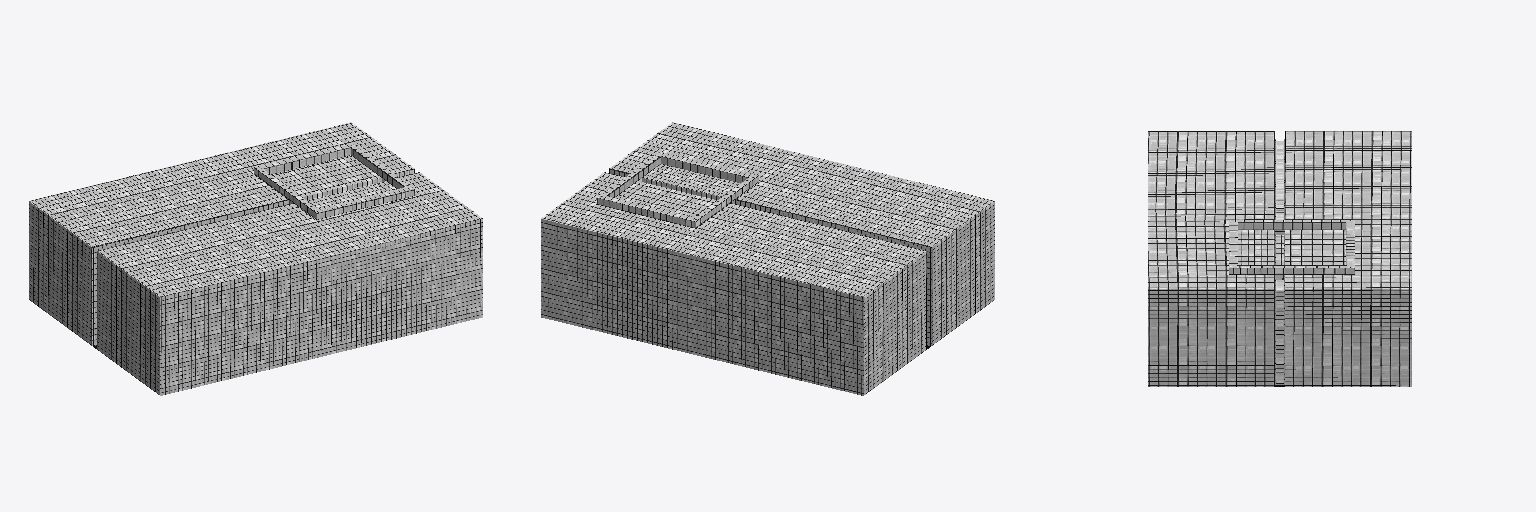
3 renders of one model, left to right at view 1: azimuth 30°, elevation 25°; view 2: azimuth 150°, elevation 25°; view 3: azimuth 270°, elevation 25°, orthographic.
Parts seen in each view (by area): view 1: fiance_box_paper_top_Cube.018; view 2: fiance_box_paper_top_Cube.018; view 3: fiance_box_paper_top_Cube.018.
Boxes of the visible parts, <box> form: fiance_box_paper_top_Cube.018: <box>29,122,482,395</box>; fiance_box_paper_top_Cube.018: <box>541,122,994,395</box>; fiance_box_paper_top_Cube.018: <box>1148,131,1411,386</box>.
Size of the model in its own units: 3.95 by 1.24 by 2.79.
1 materials, 1 textured.